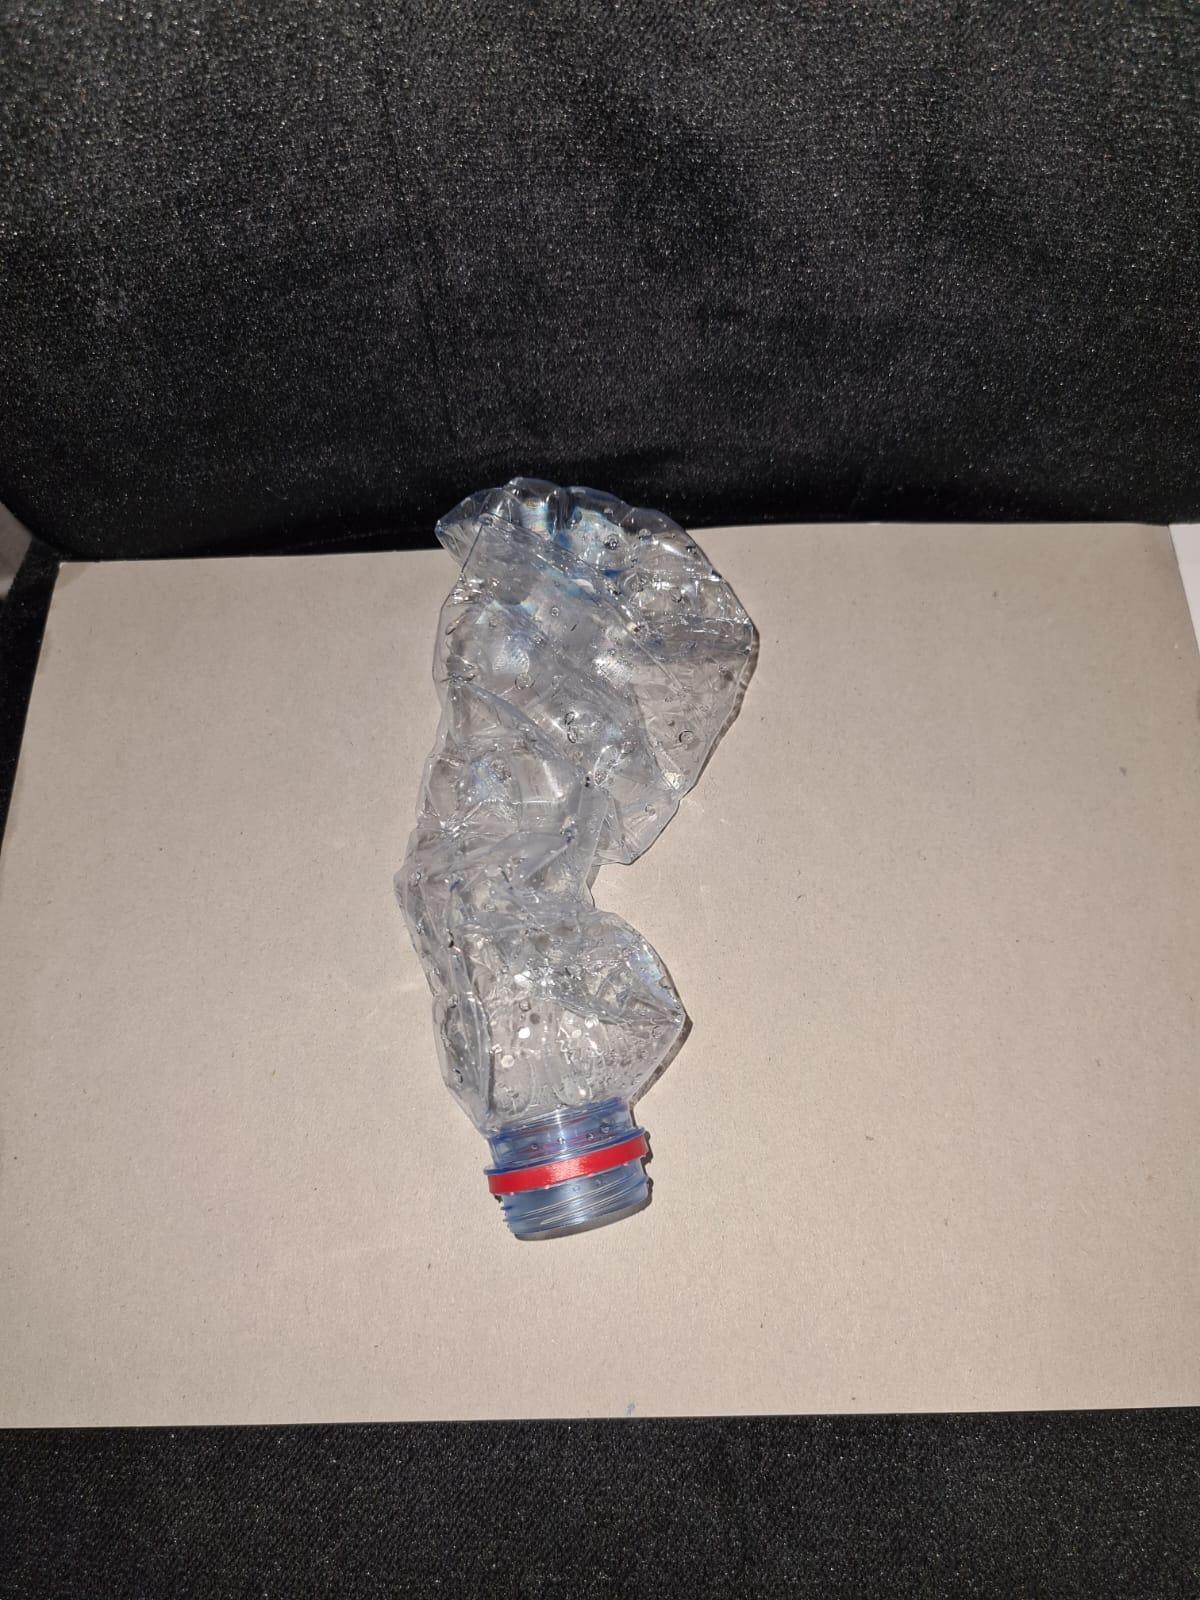bottle: (415, 474, 744, 1233)
